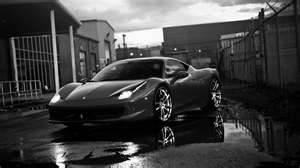car: (50, 56, 226, 129)
